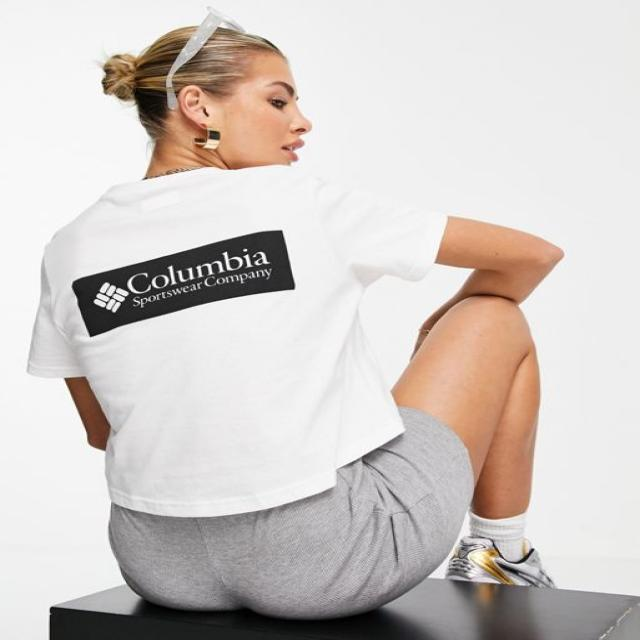tshirt: (26, 163, 449, 517)
